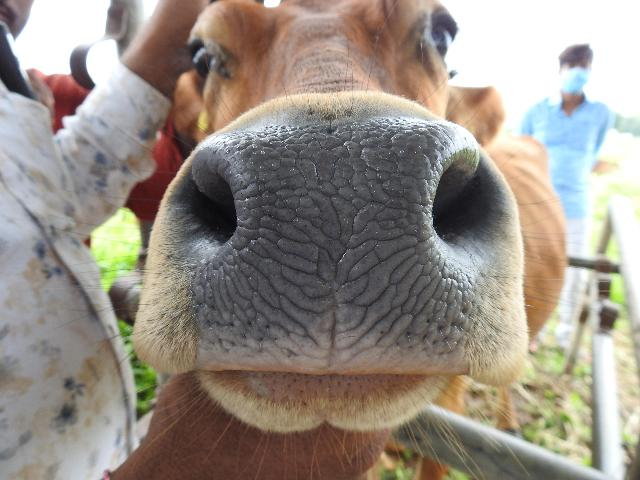Muzzle: (228, 131, 430, 355)
